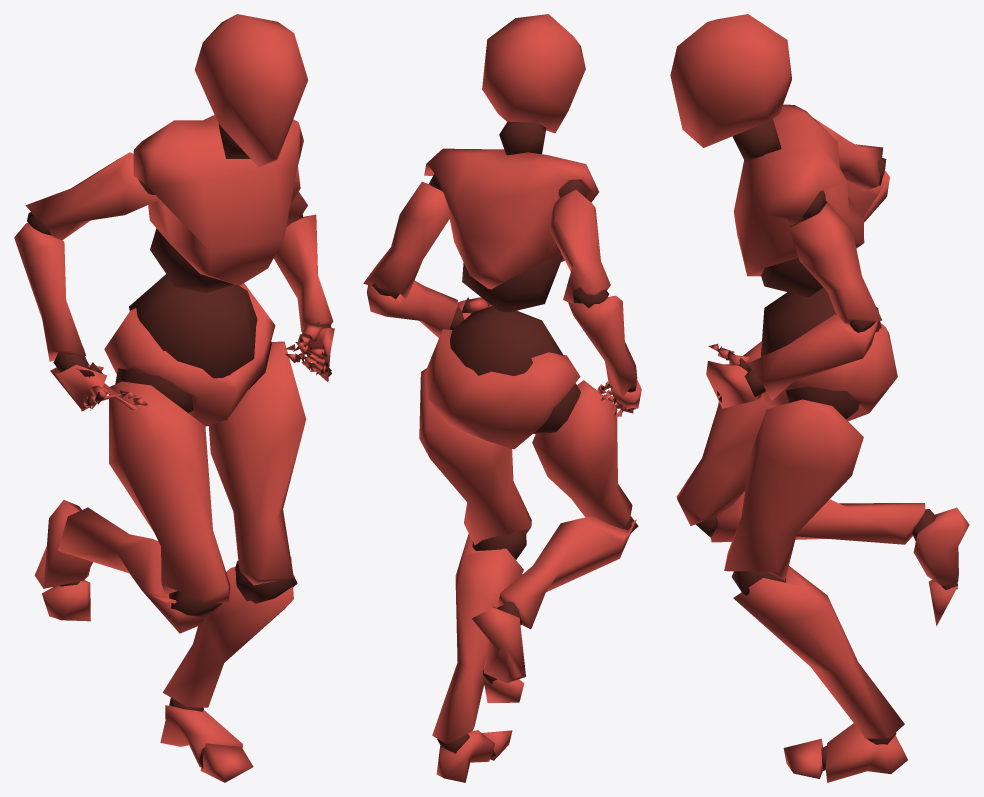
3 renders of one model, left to right at view 1: azimuth 30°, elevation 25°; view 2: azimuth 150°, elevation 25°; view 3: azimuth 270°, elevation 25°, orthographic. The views are drawn at different scales.
Parts seen in each view (by area): view 1: Beta_Surface.001; view 2: Beta_Surface.001; view 3: Beta_Surface.001.
Boxes of the visible parts, x1,y1,x2,y2 form: Beta_Surface.001: (14, 14, 334, 782); Beta_Surface.001: (363, 14, 641, 782); Beta_Surface.001: (670, 14, 969, 782).
Bounding box in the file's own units: 5.4 × 14.44 × 5.23.
